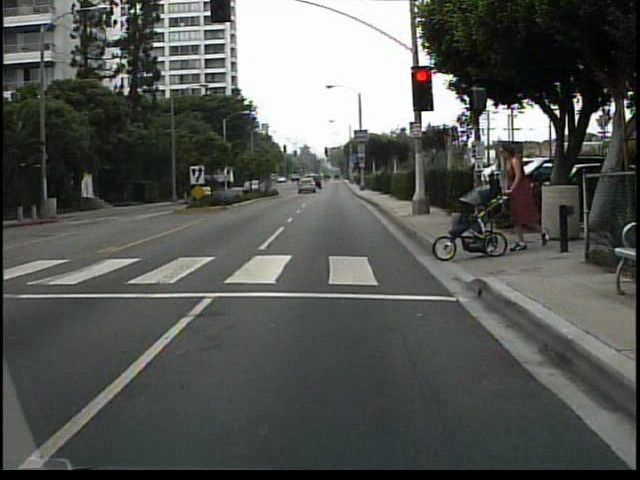person: (496, 145, 551, 256)
